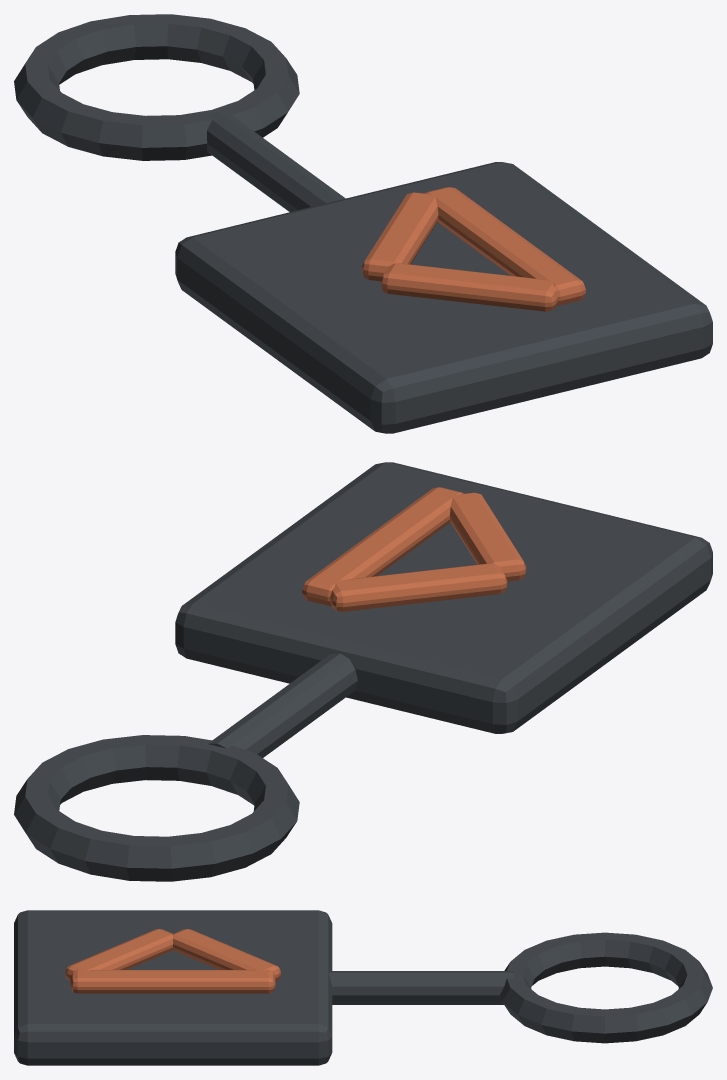
Rendered from k-tag-charm.glb.
3 renders of one model, top to bottom at view 1: azimuth 30°, elevation 25°; view 2: azimuth 150°, elevation 25°; view 3: azimuth 270°, elevation 25°, orthographic. The views are drawn at different scales.
Parts seen in each view (by area): view 1: KTagCharm, ConnectorRing, ConnectorLink, KBackStem, KBackLower, KBackUpper; view 2: KTagCharm, ConnectorRing, ConnectorLink, KBackStem, KBackUpper, KBackLower; view 3: KTagCharm, ConnectorRing, ConnectorLink, KBackStem, KBackUpper, KBackLower.
Boxes of the visible parts, left/top/right/bottom form: KTagCharm: left=175, top=162, right=712, bottom=433; ConnectorRing: left=14, top=14, right=299, bottom=160; ConnectorLink: left=207, top=111, right=345, bottom=211; KBackStem: left=424, top=187, right=585, bottom=305; KBackLower: left=381, top=263, right=558, bottom=311; KBackUpper: left=362, top=192, right=438, bottom=281; KTagCharm: left=175, top=462, right=712, bottom=733; ConnectorRing: left=14, top=735, right=299, bottom=881; ConnectorLink: left=208, top=653, right=357, bottom=757; KBackStem: left=302, top=487, right=463, bottom=605; KBackUpper: left=330, top=563, right=507, bottom=611; KBackLower: left=450, top=492, right=526, bottom=581; KTagCharm: left=14, top=910, right=332, bottom=1065; ConnectorRing: left=500, top=932, right=712, bottom=1043; ConnectorLink: left=329, top=971, right=513, bottom=1004; KBackStem: left=70, top=970, right=275, bottom=993; KBackUpper: left=173, top=929, right=280, bottom=981; KBackLower: left=65, top=929, right=172, bottom=981.
Size of the model in its own units: 0.026 by 0.0069 by 0.0615.
